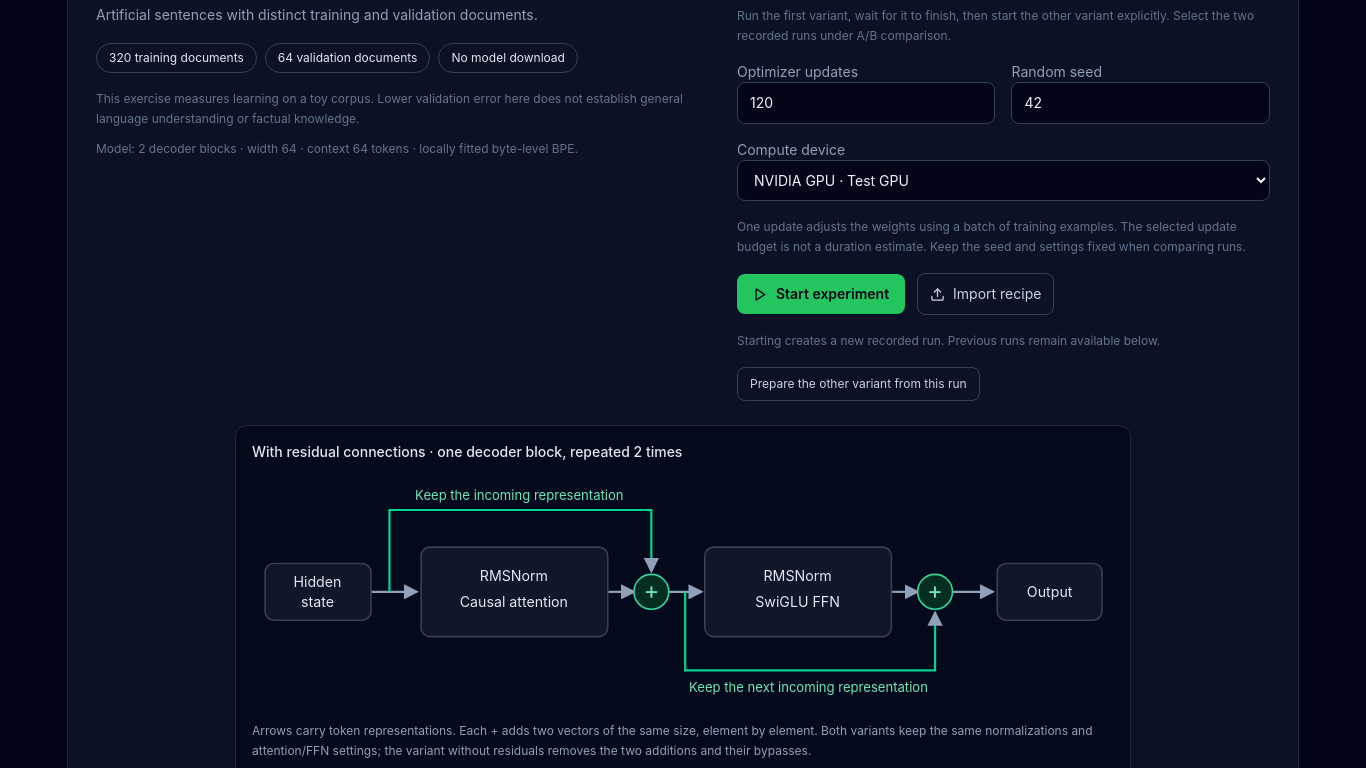
Test case: Guided learning experience › prepares the other residual variant from saved settings without starting it
(page scrolled)
Click the button "Prepare the other variant from this run" at point(858, 384), box x1=737 y1=367 x2=980 y2=401
(page scrolled)
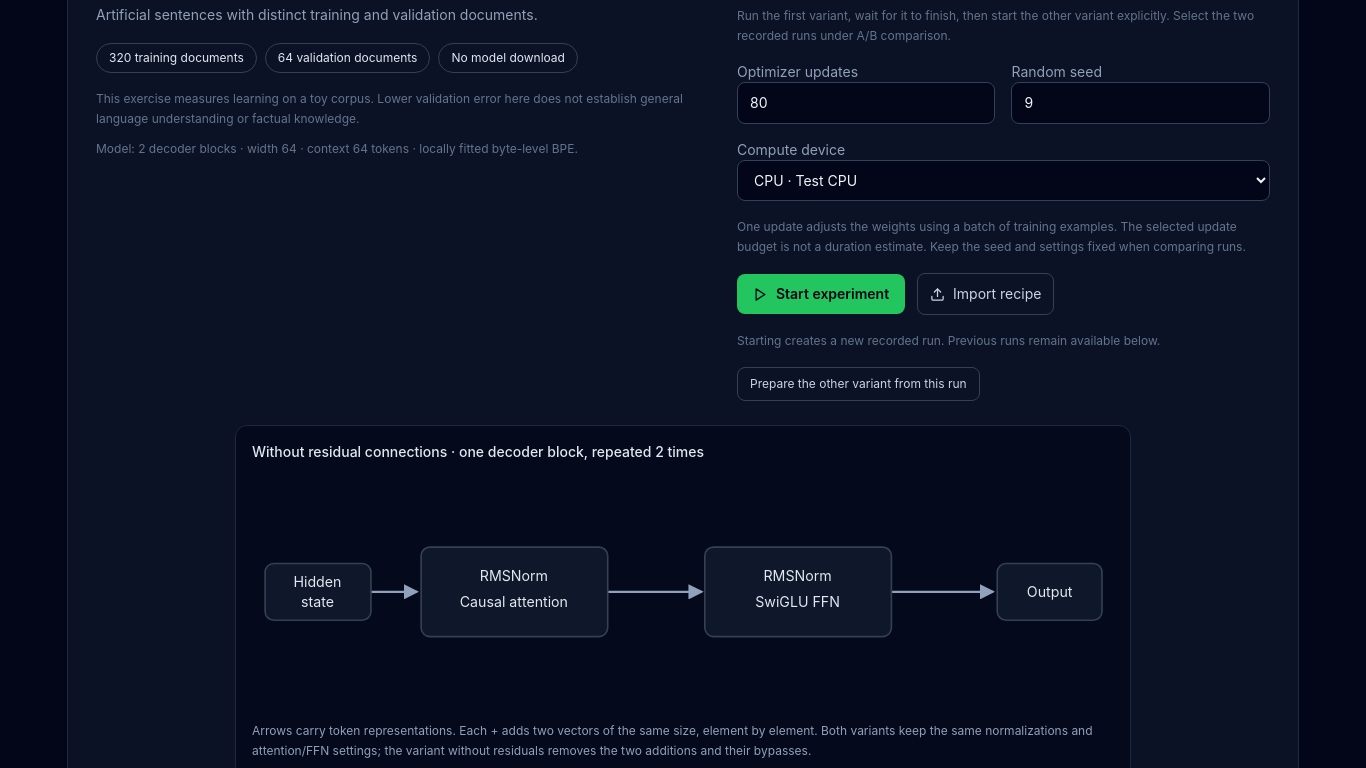
Expected: the number field labelled "Optimizer updates" holds "80", x1=737 y1=82 x2=996 y2=124
Expected: the number field labelled "Random seed" holds "9", x1=1012 y1=82 x2=1270 y2=124
Expected: the dropdown labelled "Compute device" shows "CPU · Test CPU", x1=737 y1=160 x2=1270 y2=201
